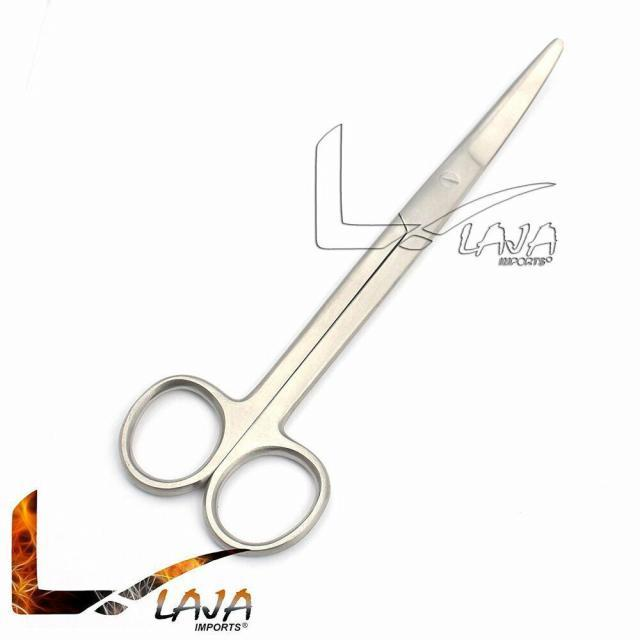Mayo_metz: (114, 34, 569, 558)
